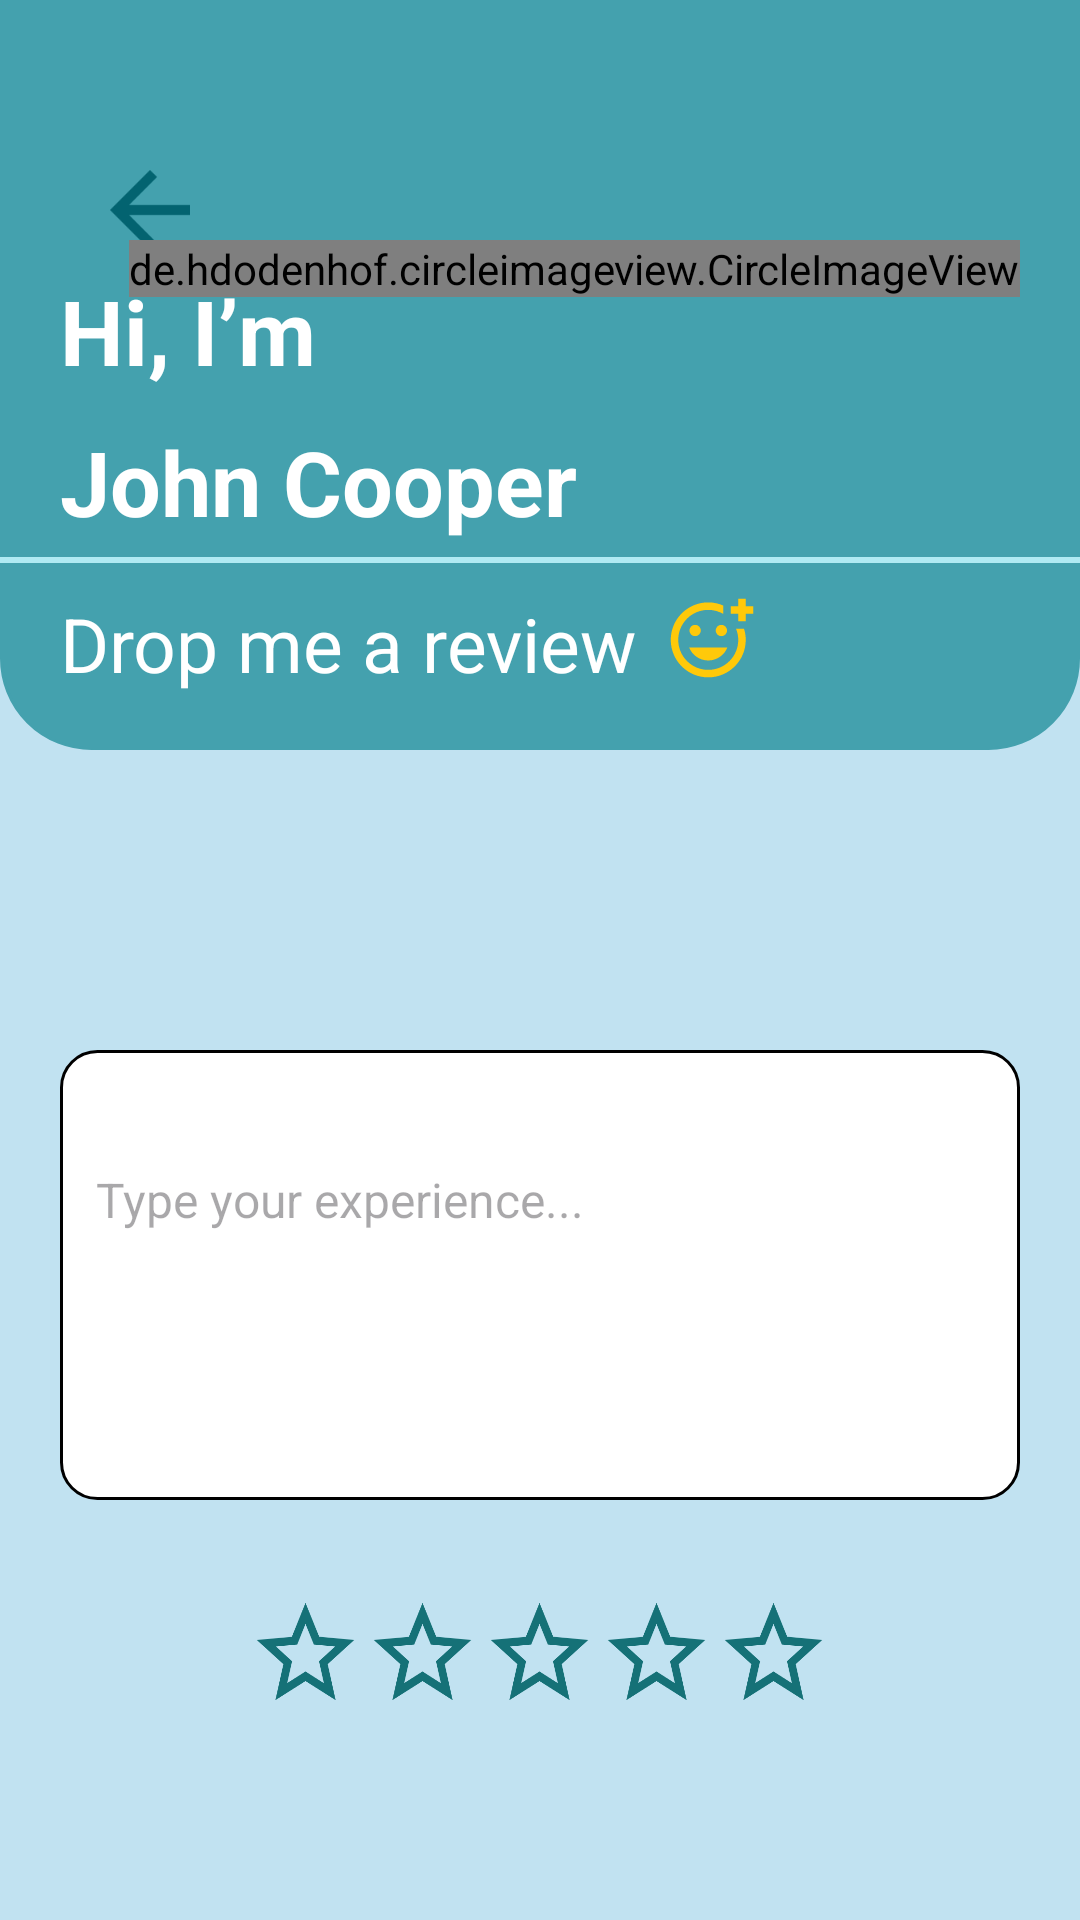

Icon click points for this 1080×1920 phone screenshot, format (x,y):
add reaction: (712,638)
star border: (305,1651), (422,1651), (539,1651), (656,1651), (773,1651)
